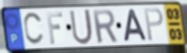A: (122, 8, 149, 43)
C: (22, 11, 45, 47)
F: (45, 12, 64, 45)
P: (143, 7, 164, 43)
R: (91, 9, 119, 45)
U: (68, 8, 94, 46)
